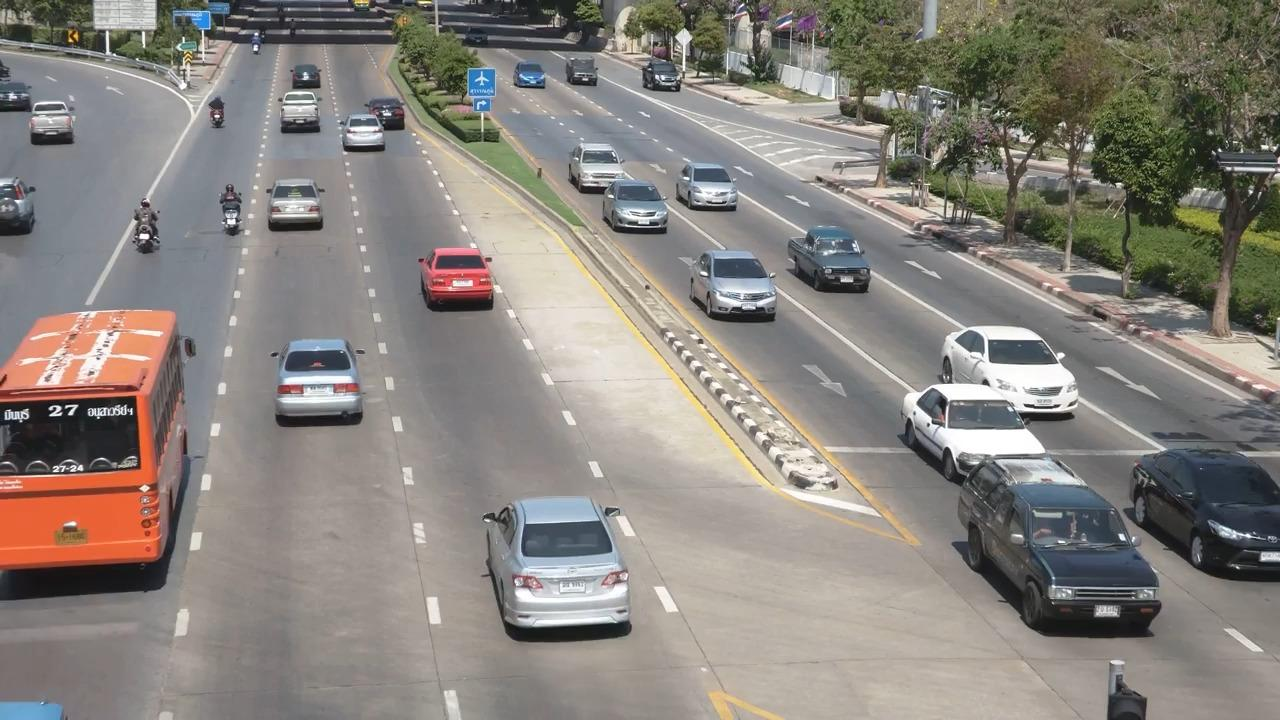CAR: (932, 453, 1167, 647), (454, 479, 656, 654), (1120, 432, 1280, 597), (252, 317, 394, 459), (892, 378, 1057, 485), (935, 315, 1081, 422), (398, 220, 520, 340), (687, 243, 790, 333), (254, 187, 348, 281), (785, 222, 880, 300), (666, 152, 750, 221), (19, 83, 87, 161), (606, 178, 675, 244), (567, 131, 636, 191), (332, 114, 397, 174), (271, 88, 334, 144), (0, 57, 55, 114), (636, 60, 689, 102), (363, 92, 413, 136), (283, 58, 336, 97), (554, 53, 604, 93)
HGV_BUS: (3, 295, 187, 609)
MOTOR: (197, 181, 259, 251), (119, 197, 164, 268), (192, 89, 239, 141)
